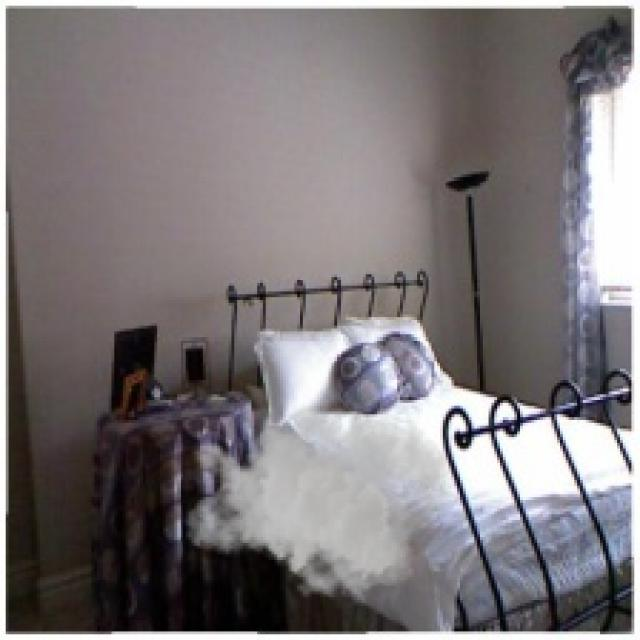smoke: (183, 380, 451, 606)
